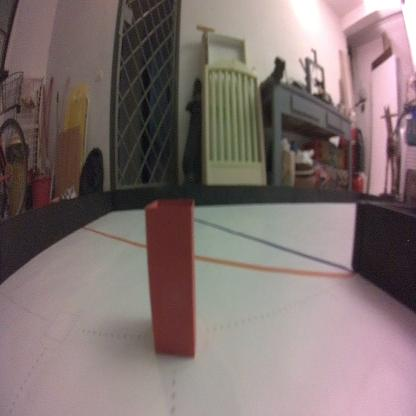red: (142, 196, 198, 360)
